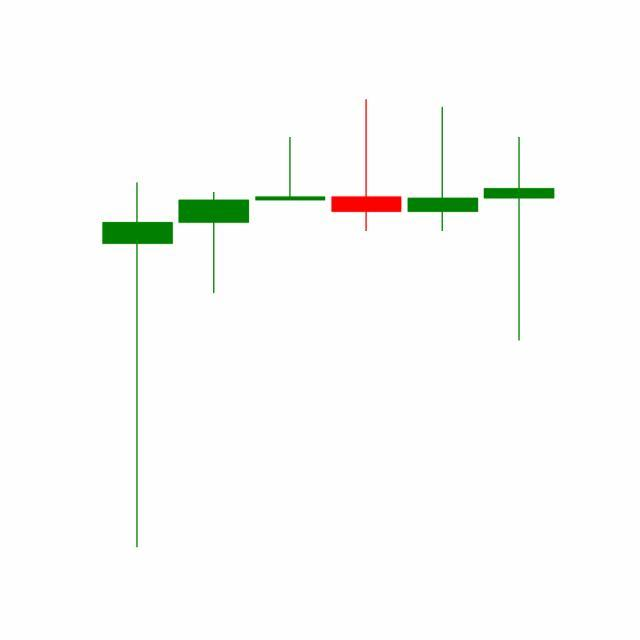Gravestone Doji: (404, 106, 482, 234)
